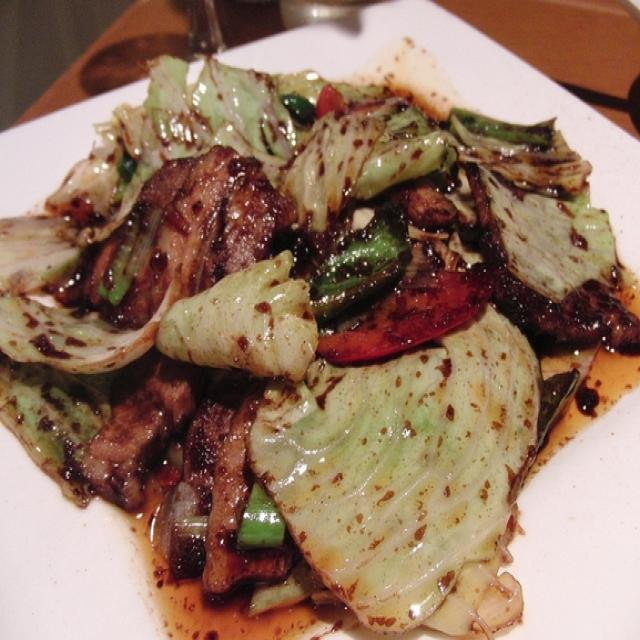猪肉菜式: (1, 28, 628, 631)
